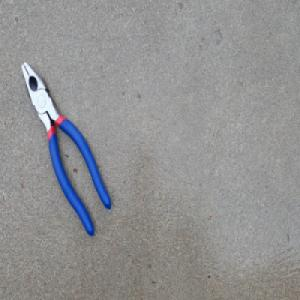Pliers: (20, 60, 112, 237)
